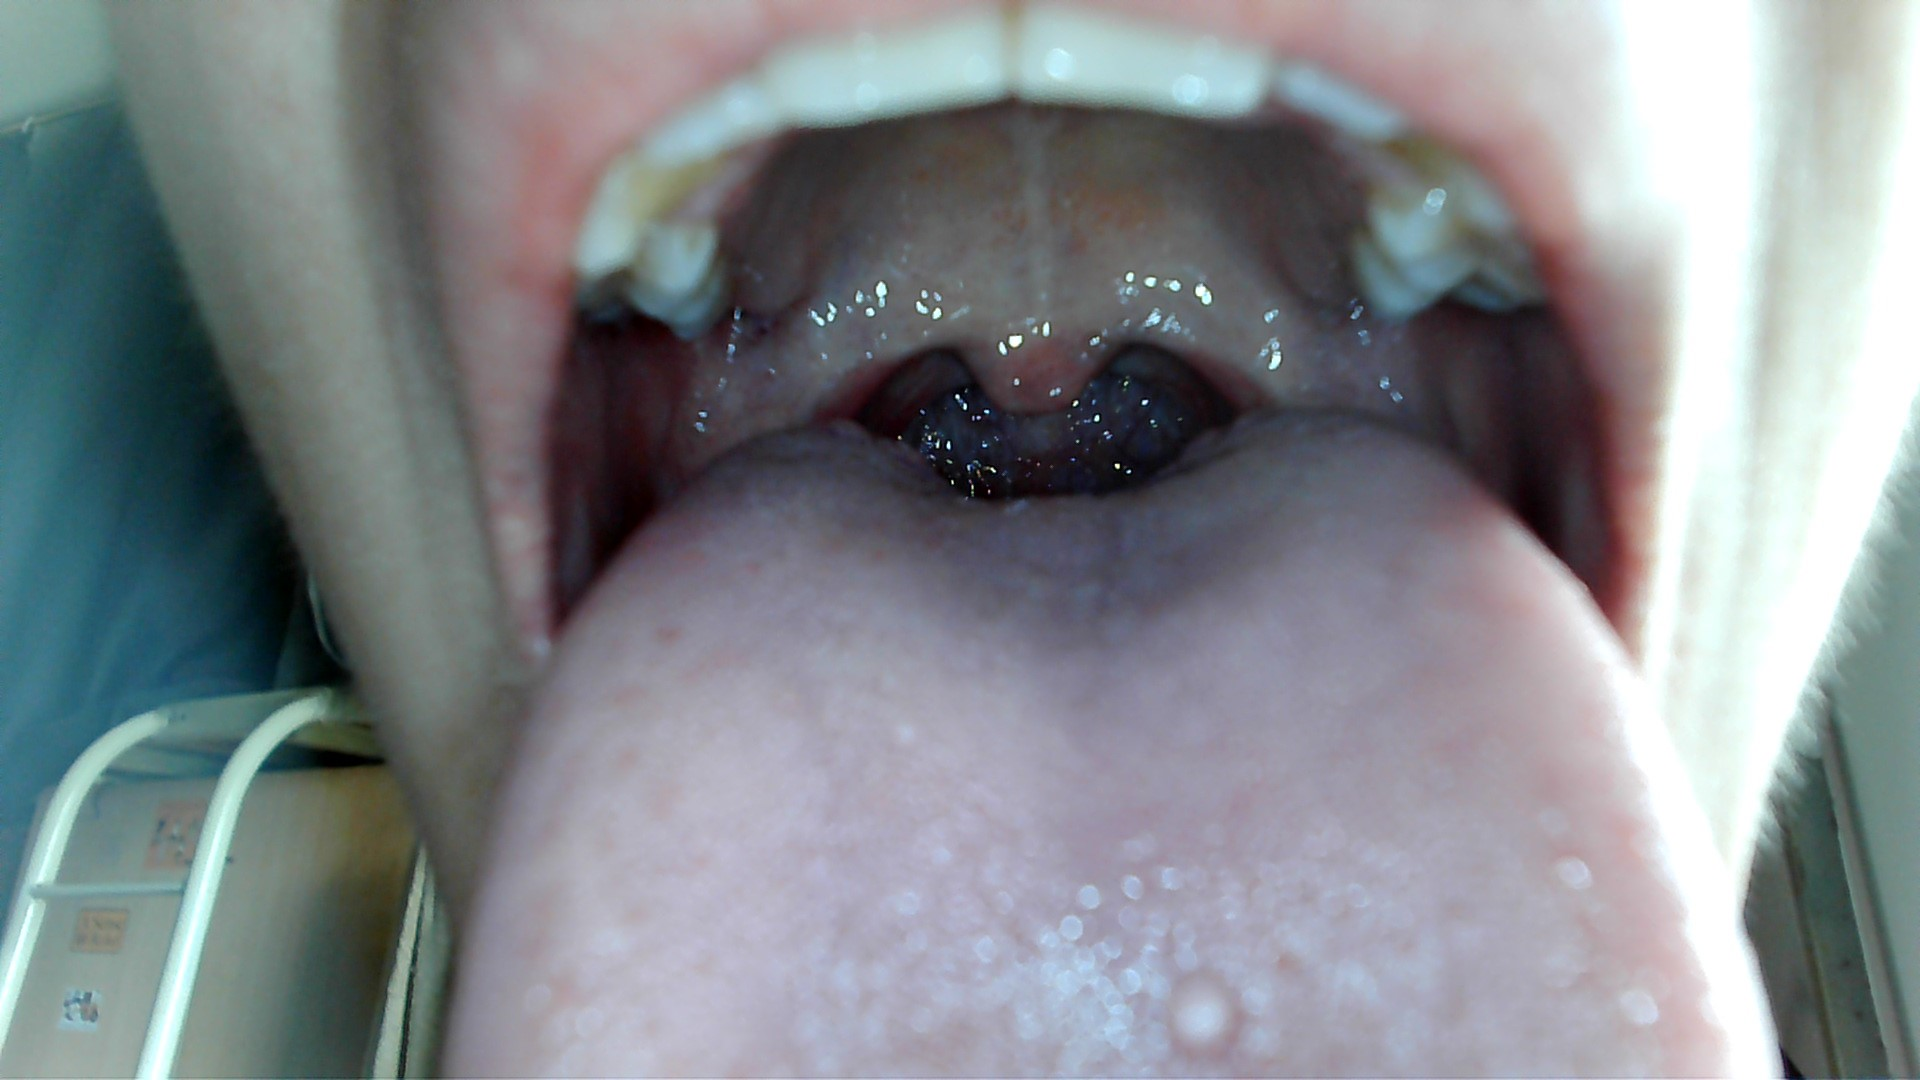throat: (1182, 276, 1298, 411), (770, 316, 890, 429)
